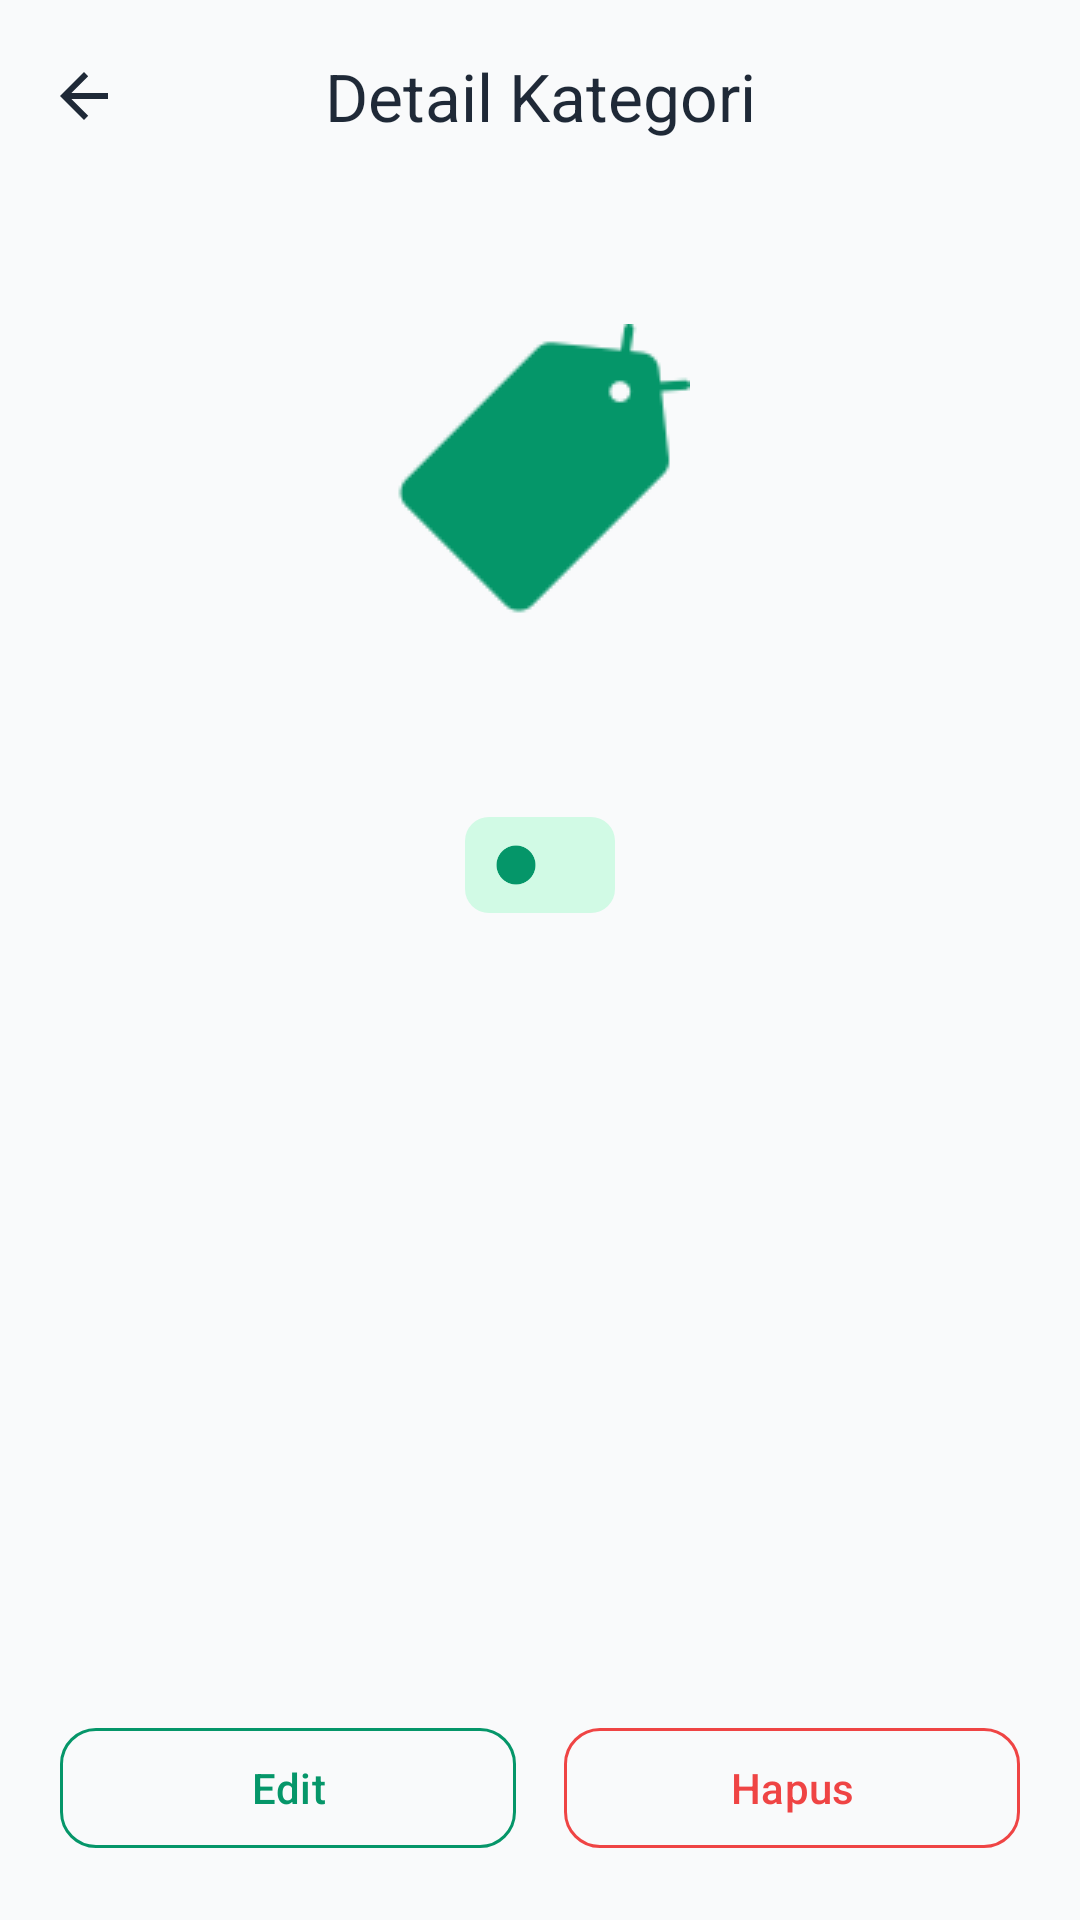

Where to tap for icons on this 1080 × 1920 app screen, as (x,y):
Ikon Kategori: (544,468)
